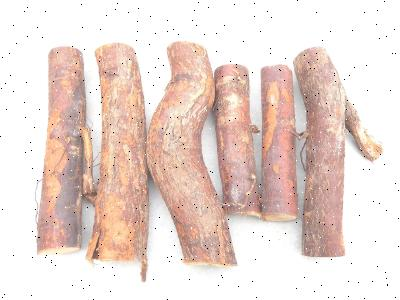Root: (86, 42, 297, 281), (294, 47, 382, 257), (41, 47, 85, 249)
